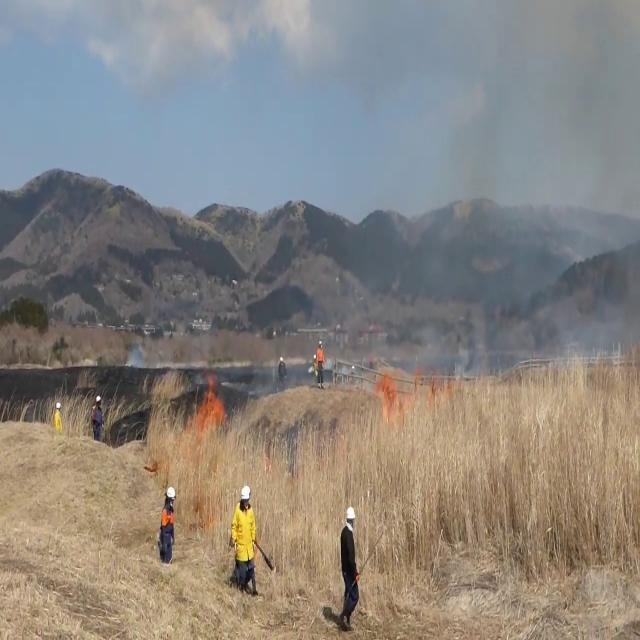Fire: (194, 371, 228, 433)
Smoke: (371, 7, 640, 397)
